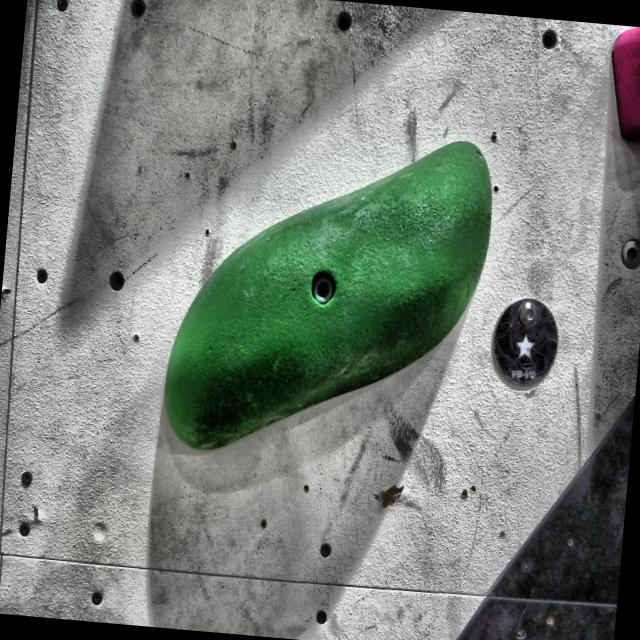Hold: (148, 110, 502, 492), (598, 29, 640, 149)
